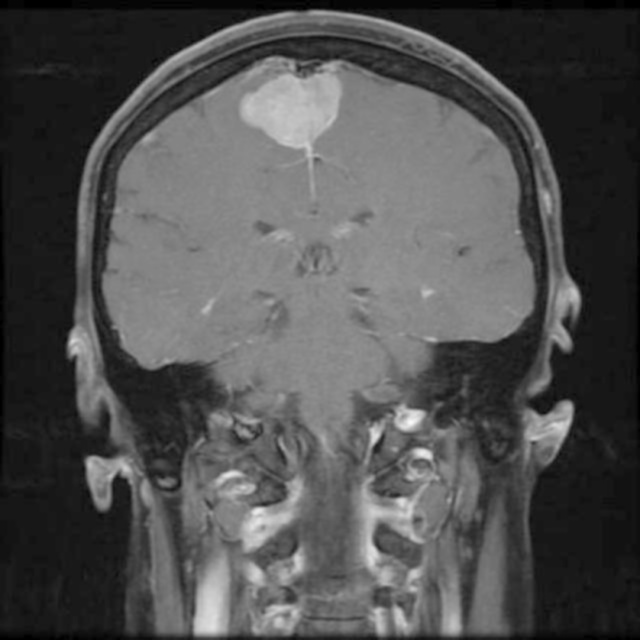meningioma tumor: (201, 61, 358, 165)
